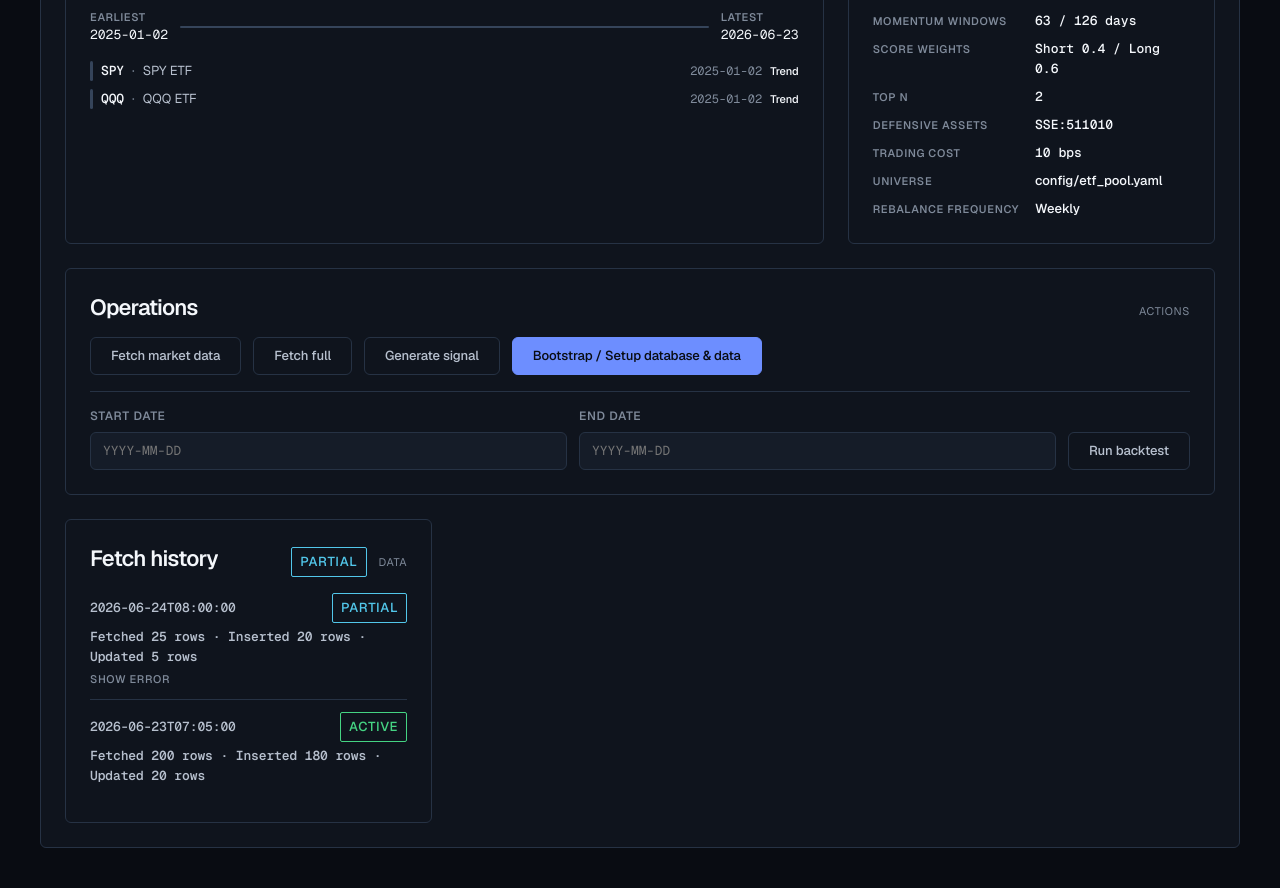
Test: submits a Dashboard backtest date range through the shared API
(page scrolled)
Type "2026-01-01" into the field labelled "Start date" at (328, 451), box left=90, top=432, right=567, bottom=470
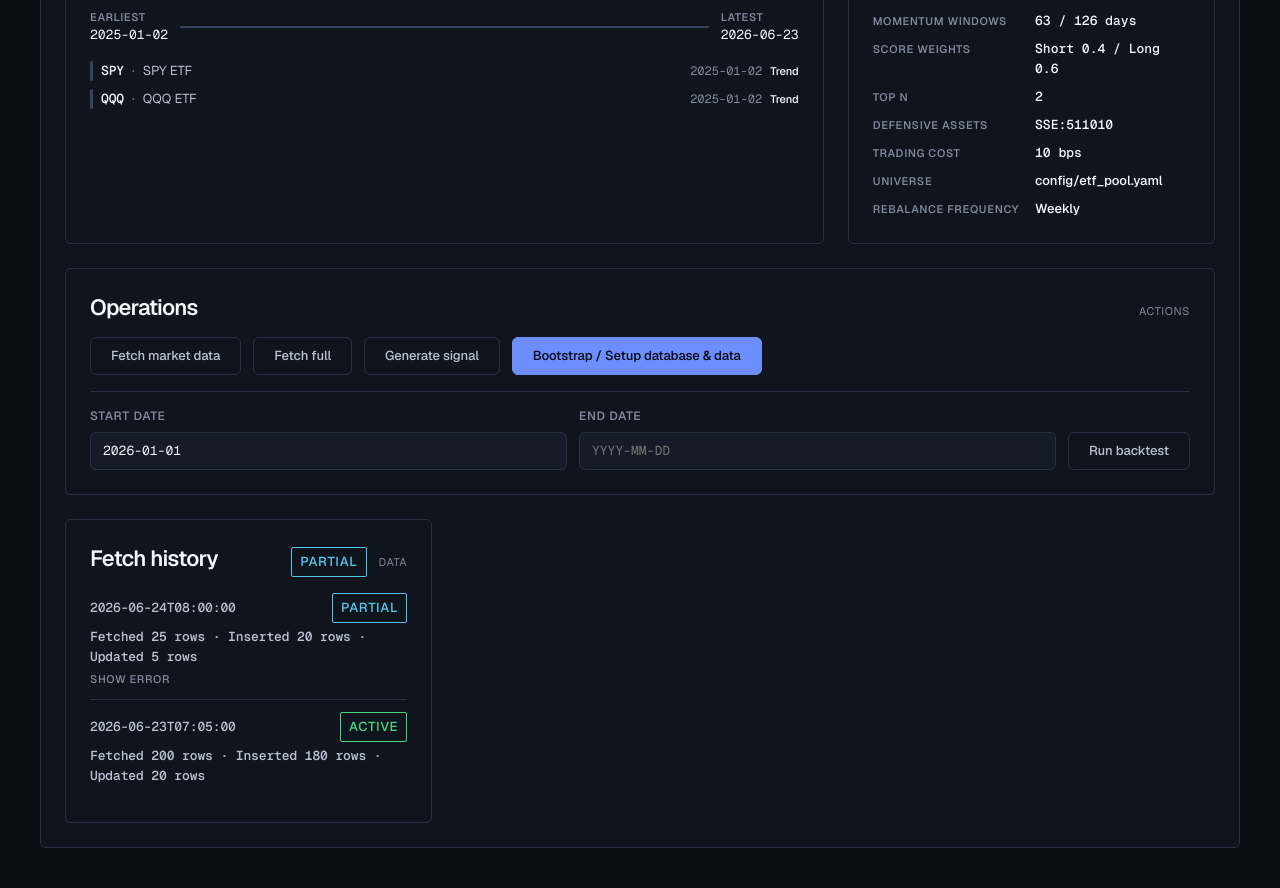
Type "2026-01-31" into the field labelled "End date" at (818, 451), box left=579, top=432, right=1056, bottom=470
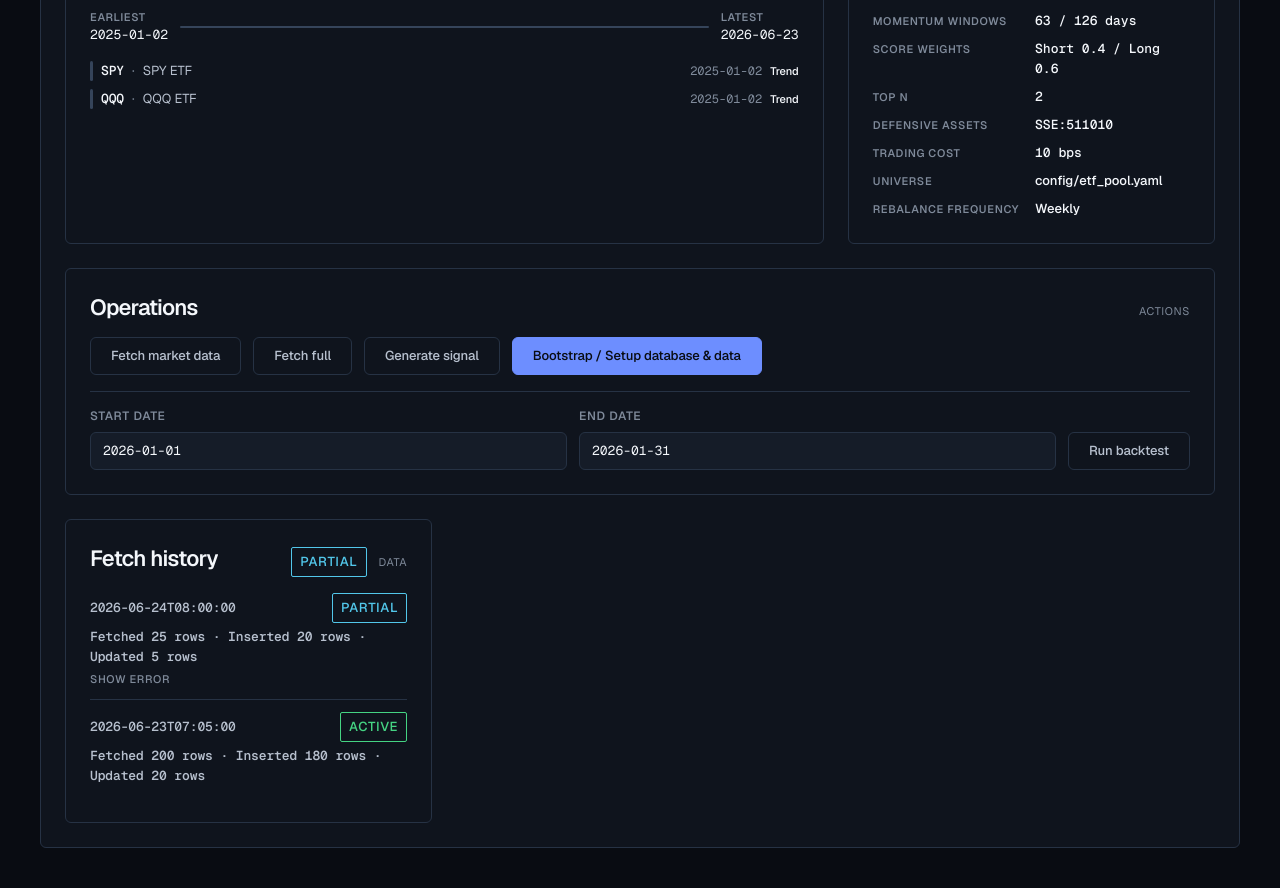
Click the button "Run backtest" at (1129, 451), box left=1068, top=432, right=1190, bottom=470
(page scrolled)
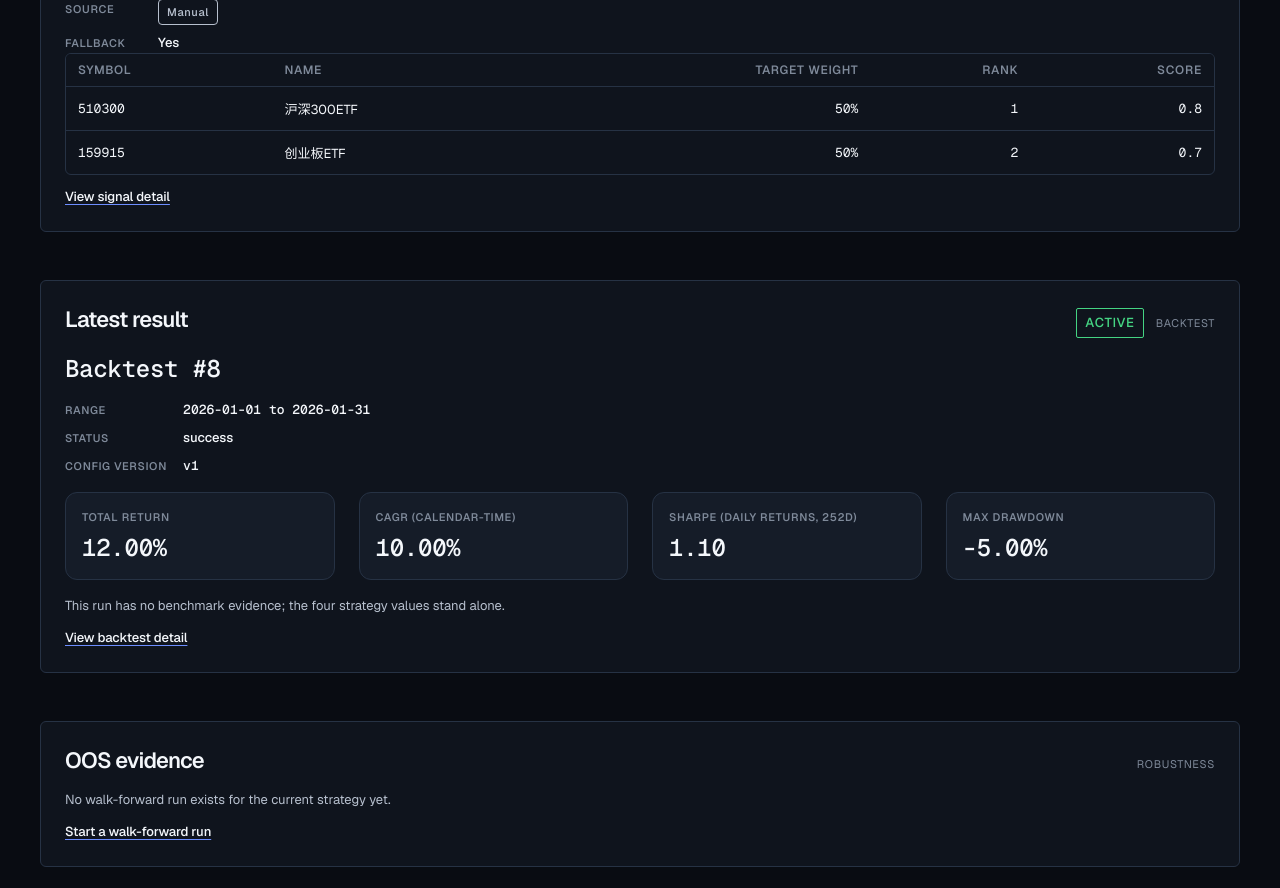
Now the text "Backtest #8" is shown, box left=65, top=353, right=221, bottom=384
Now the text "2026-01-01 to 2026-01-31" is shown, box left=183, top=401, right=370, bottom=418
Now the text "success" is shown, box left=183, top=429, right=233, bottom=446
